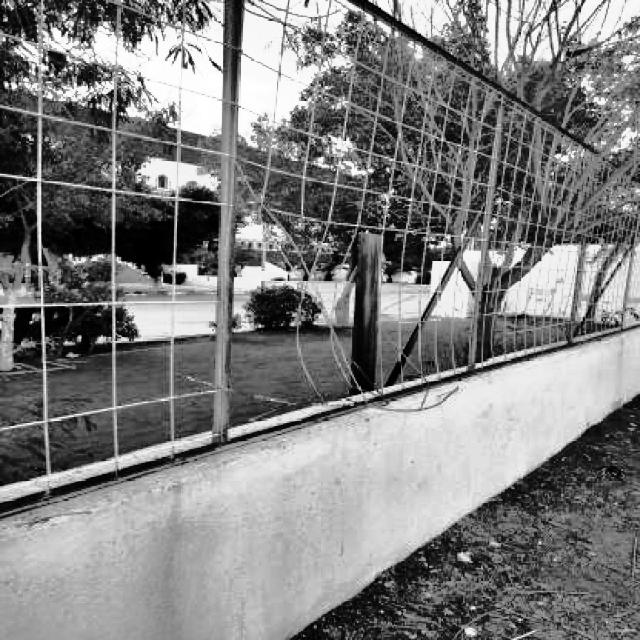anomaly-fence: (175, 196, 487, 427)
